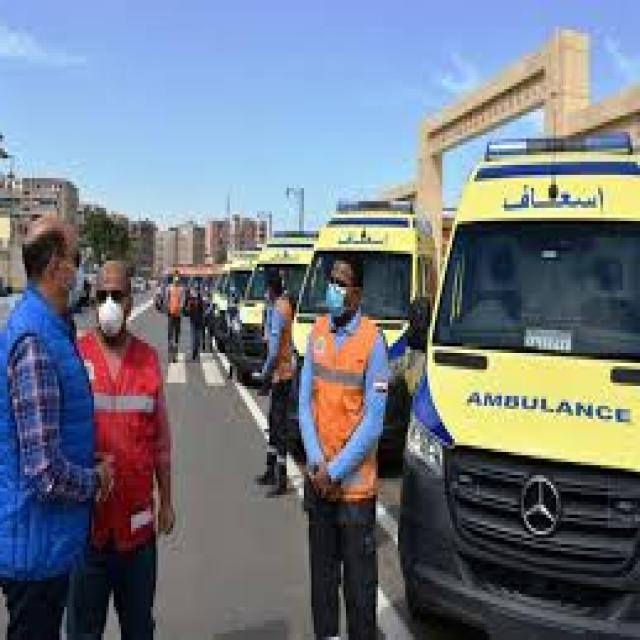Ambulance: (412, 115, 640, 640), (289, 205, 440, 465), (249, 205, 310, 394)
person: (2, 211, 118, 637), (67, 257, 178, 637), (299, 257, 393, 637)
